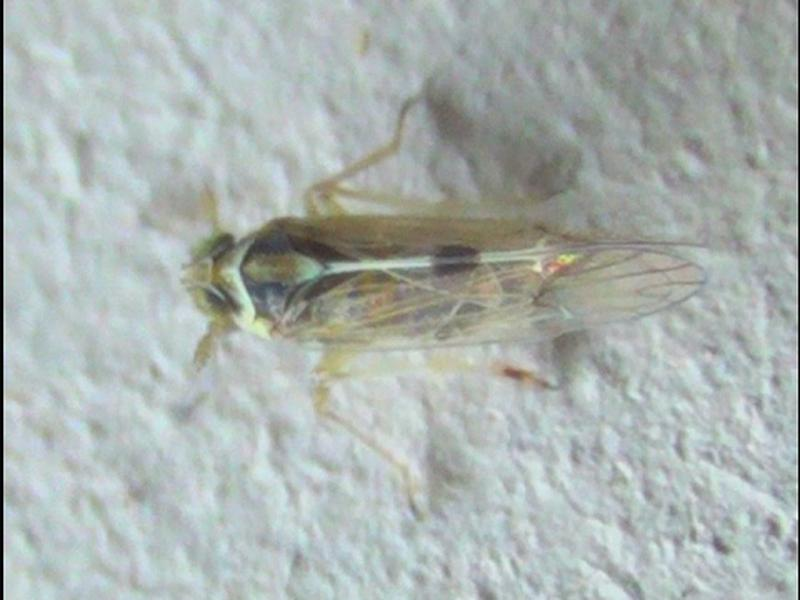White_backed_plant_hopper: (178, 196, 717, 362)
